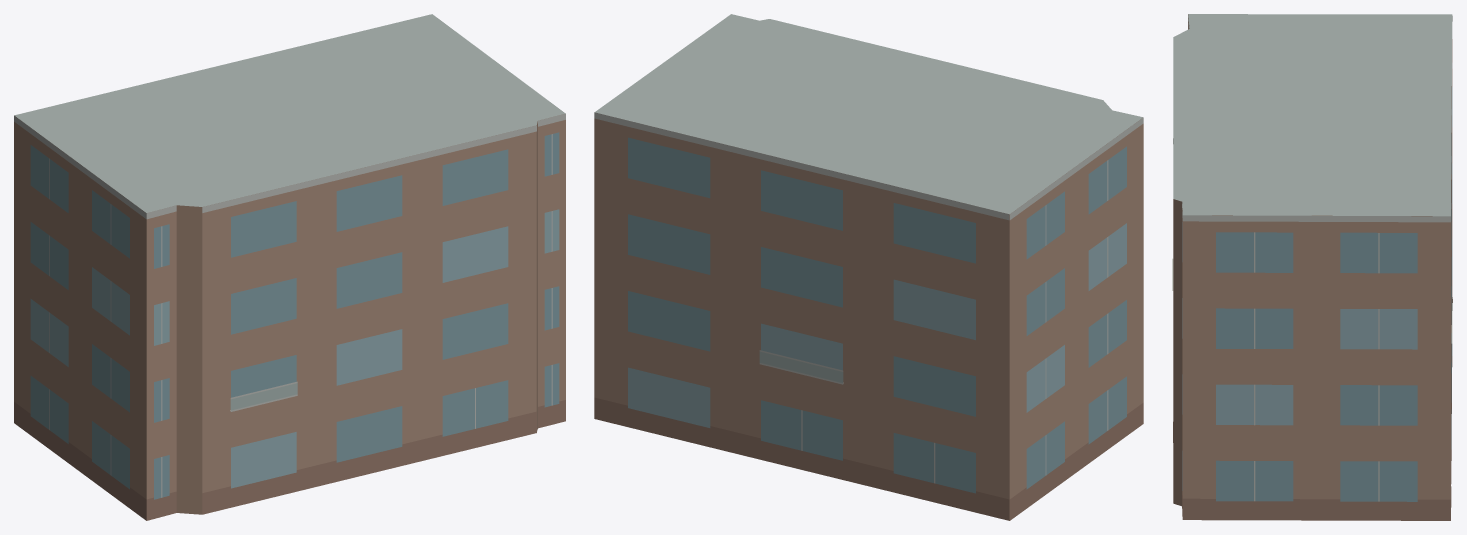
File: survey-upis-32770288.glb
3 renders of one model, left to right at view 1: azimuth 30°, elevation 25°; view 2: azimuth 150°, elevation 25°; view 3: azimuth 270°, elevation 25°, orthographic.
Visible parts, largest first — view 1: survey-upis-32770288.tmp; view 2: survey-upis-32770288.tmp; view 3: survey-upis-32770288.tmp.
Boxes of the visible parts, x1=… form: survey-upis-32770288.tmp: x1=14, y1=14, x2=565, y2=520; survey-upis-32770288.tmp: x1=594, y1=14, x2=1143, y2=520; survey-upis-32770288.tmp: x1=1172, y1=14, x2=1452, y2=520.
Bounding box in the file's own units: 17.23 × 12.1 × 10.1.
